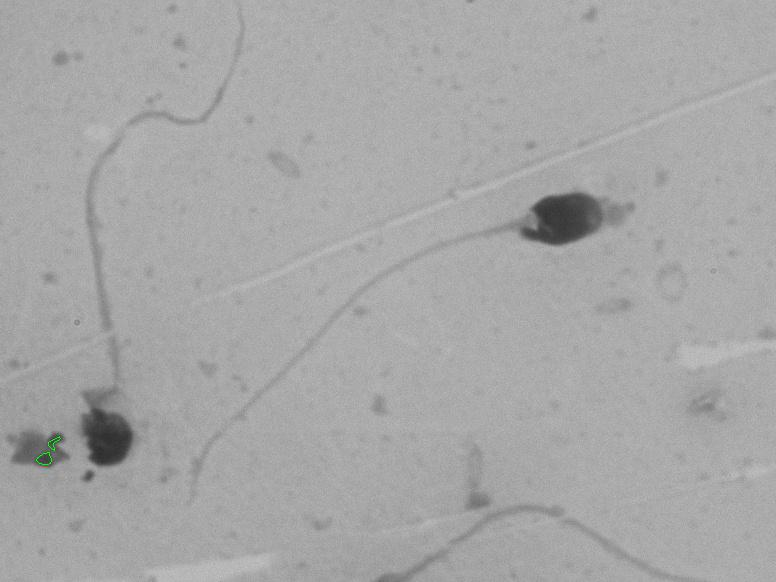Abnormal: (199, 152, 627, 530), (40, 57, 197, 491)
